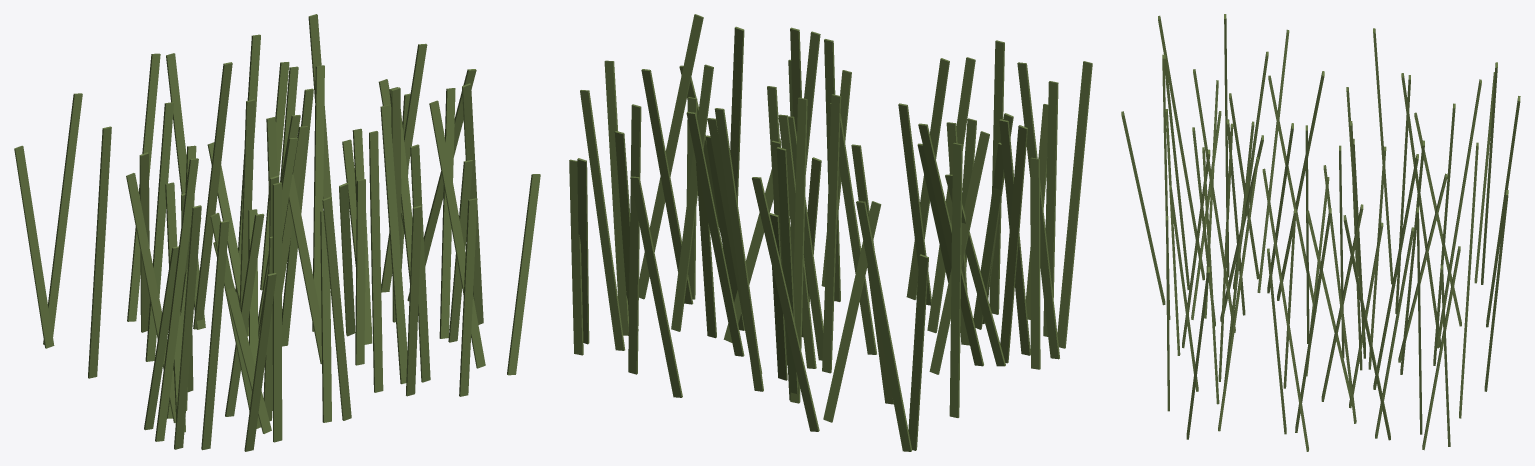
Rendered from tall_grass.glb.
3 views of the same model, side by side, from view 1: azimuth 30°, elevation 25°; view 2: azimuth 150°, elevation 25°; view 3: azimuth 270°, elevation 25° (orthographic). The views are drawn at different scales.
Visible parts, largest first — view 1: bush_mesh; view 2: bush_mesh; view 3: bush_mesh.
Boxes of the visible parts, left/top/right/bottom form: bush_mesh: left=14, top=14, right=540, bottom=451; bush_mesh: left=569, top=14, right=1092, bottom=451; bush_mesh: left=1121, top=14, right=1520, bottom=451.
Size of what is drawn, in the model's own units: 1.9 by 1.3 by 1.7.
